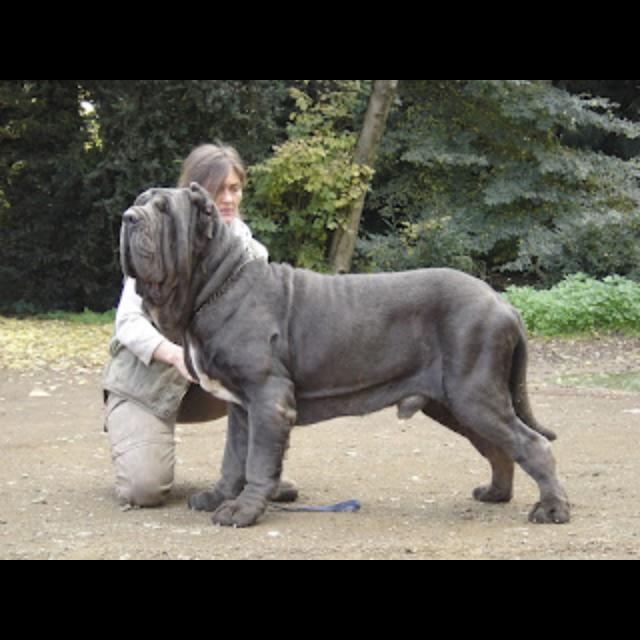face: (203, 161, 244, 219)
mastino_napoletano: (119, 181, 571, 527)
person: (103, 143, 299, 509)
